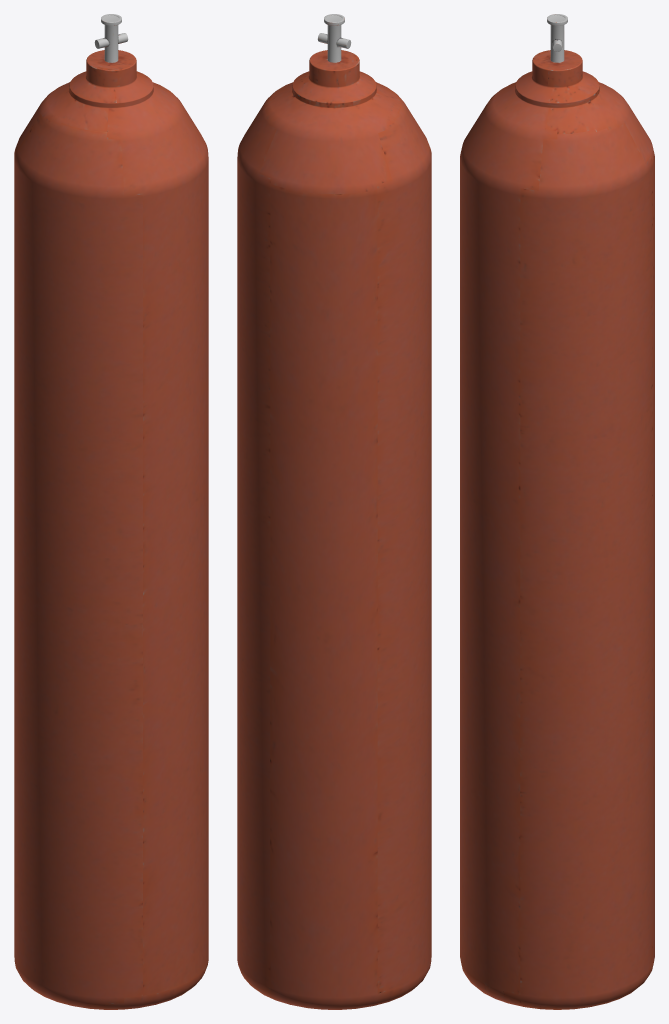
The model's file is ionized_oxyacetylene.obj.
3 renders of one model, left to right at view 1: azimuth 30°, elevation 25°; view 2: azimuth 150°, elevation 25°; view 3: azimuth 270°, elevation 25°, orthographic.
Parts seen in each view (by area): view 1: Cylinder; view 2: Cylinder; view 3: Cylinder.
Part boxes in pixels (bbox=[...]): Cylinder: bbox=[14, 14, 208, 1009]; Cylinder: bbox=[237, 14, 431, 1009]; Cylinder: bbox=[460, 14, 654, 1009].
Size of the model in its own units: 0.4288 by 2.32 by 0.4288.
